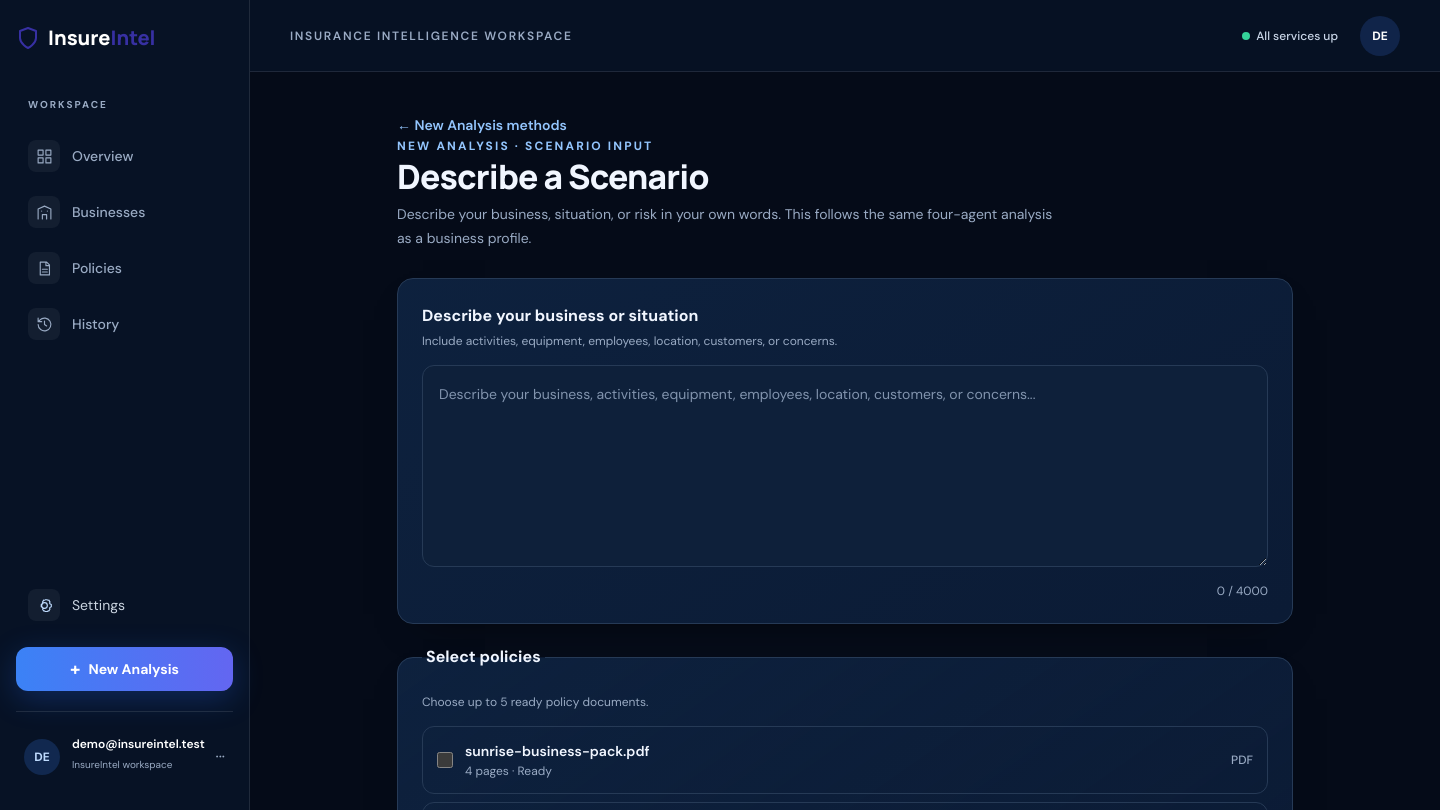
Test: shows a safe error when scenario risk identification fails
This screenshot has width=1440, height=810.
Type "Bakery uses commercial ovens with five staff." into the text box at (845, 466), box x1=422 y1=365 x2=1268 y2=567
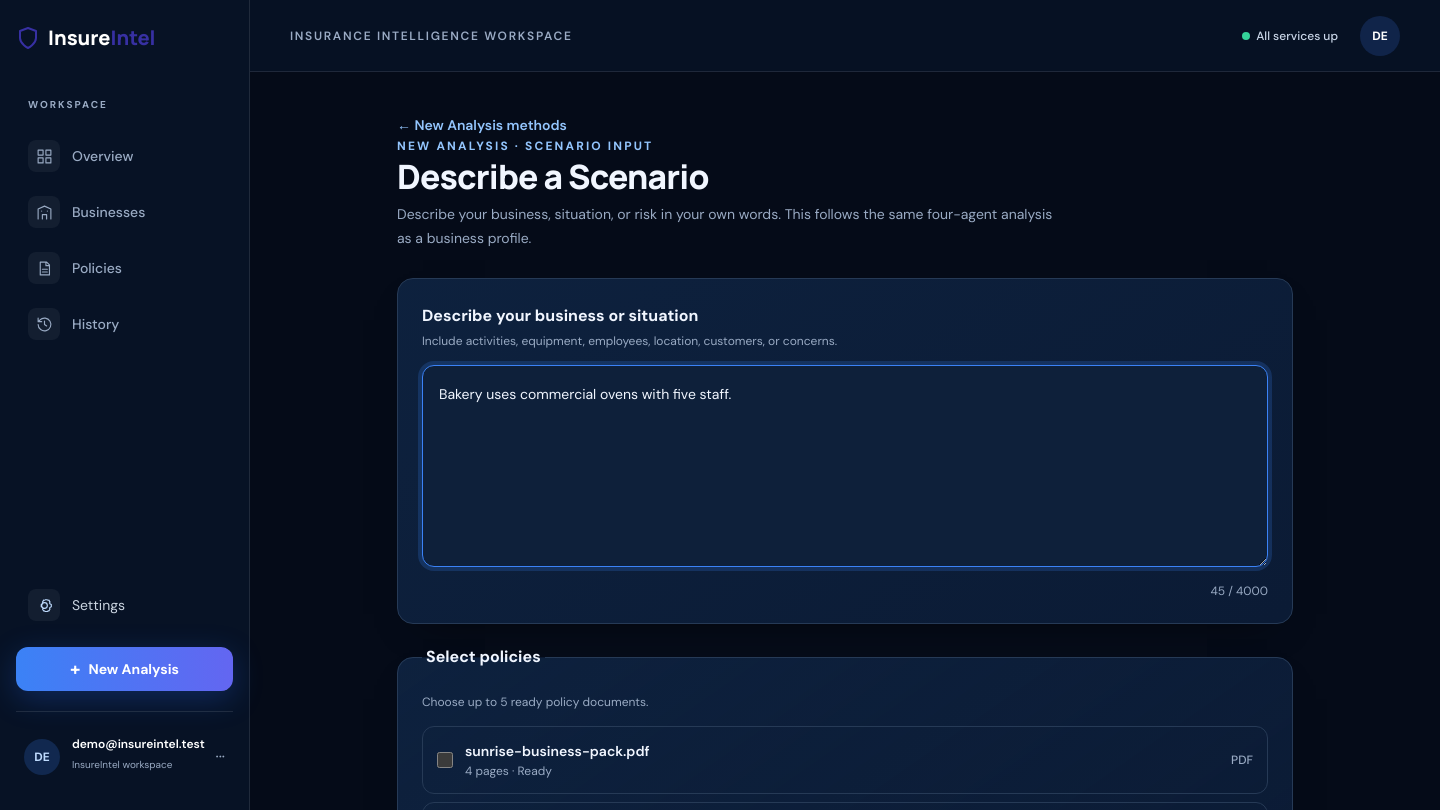
Click the checkbox labelled "sunrise-business-pack.pdf 4 pages · Ready PDF" at (445, 760), box x1=437 y1=752 x2=453 y2=768
(page scrolled)
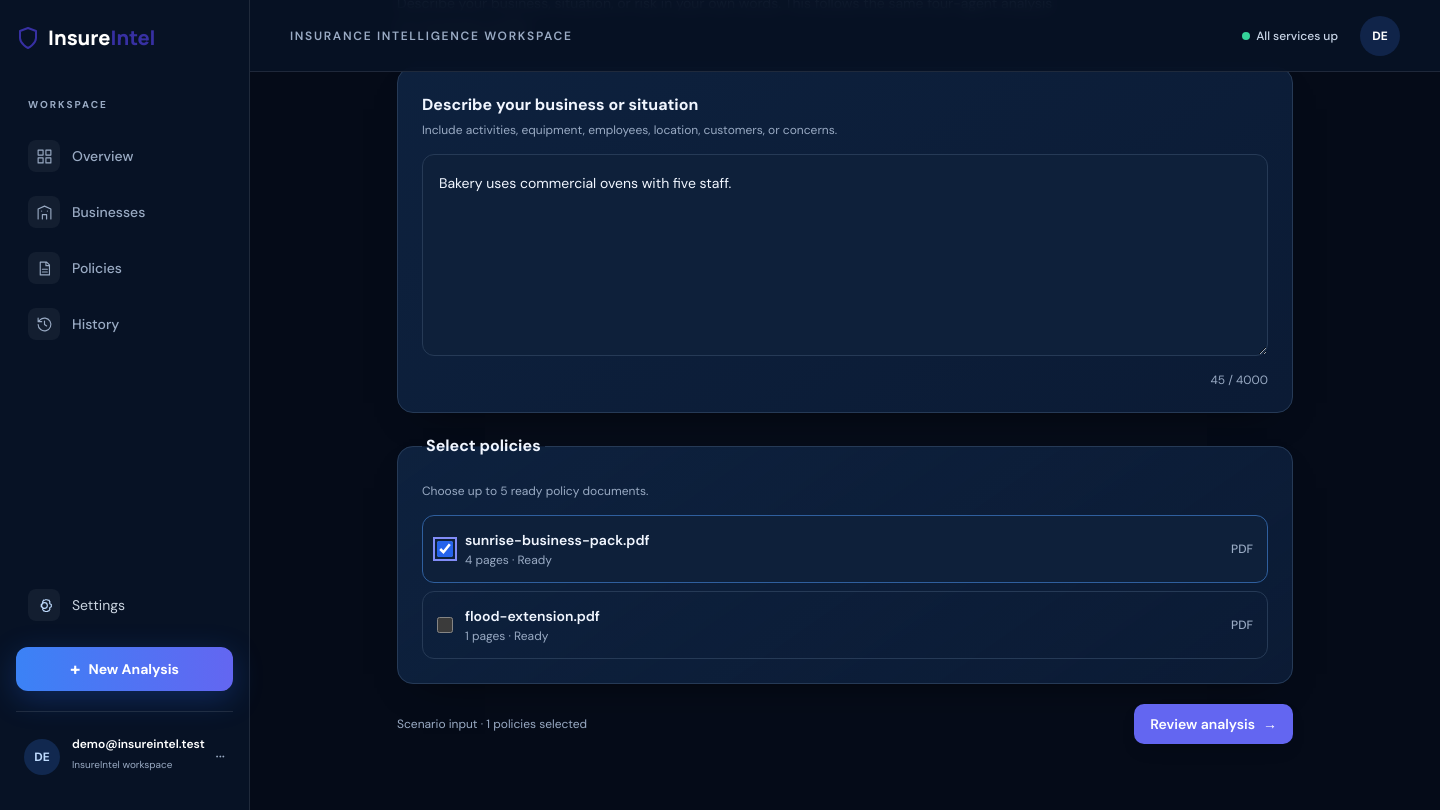
Click the button "Review analysis →" at (1214, 724), box x1=1134 y1=704 x2=1293 y2=744
(page scrolled)
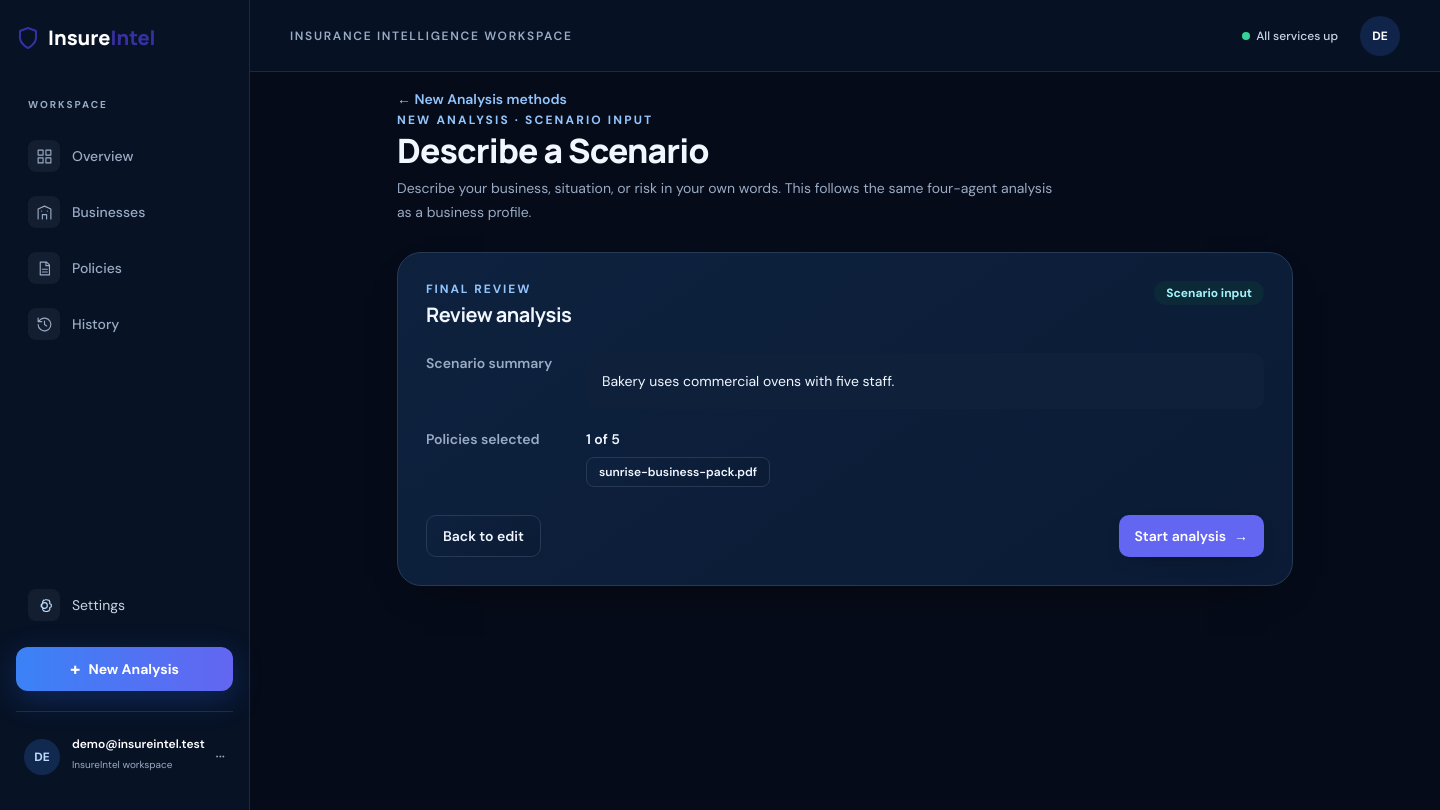
Expected: the heading "Review analysis" is shown, x1=426 y1=301 x2=571 y2=329
Expected: the text "Bakery uses commercial ovens with five staff." is shown, x1=586 y1=353 x2=1264 y2=409
Click the button "Start analysis →" at (1191, 536), box x1=1118 y1=515 x2=1264 y2=557
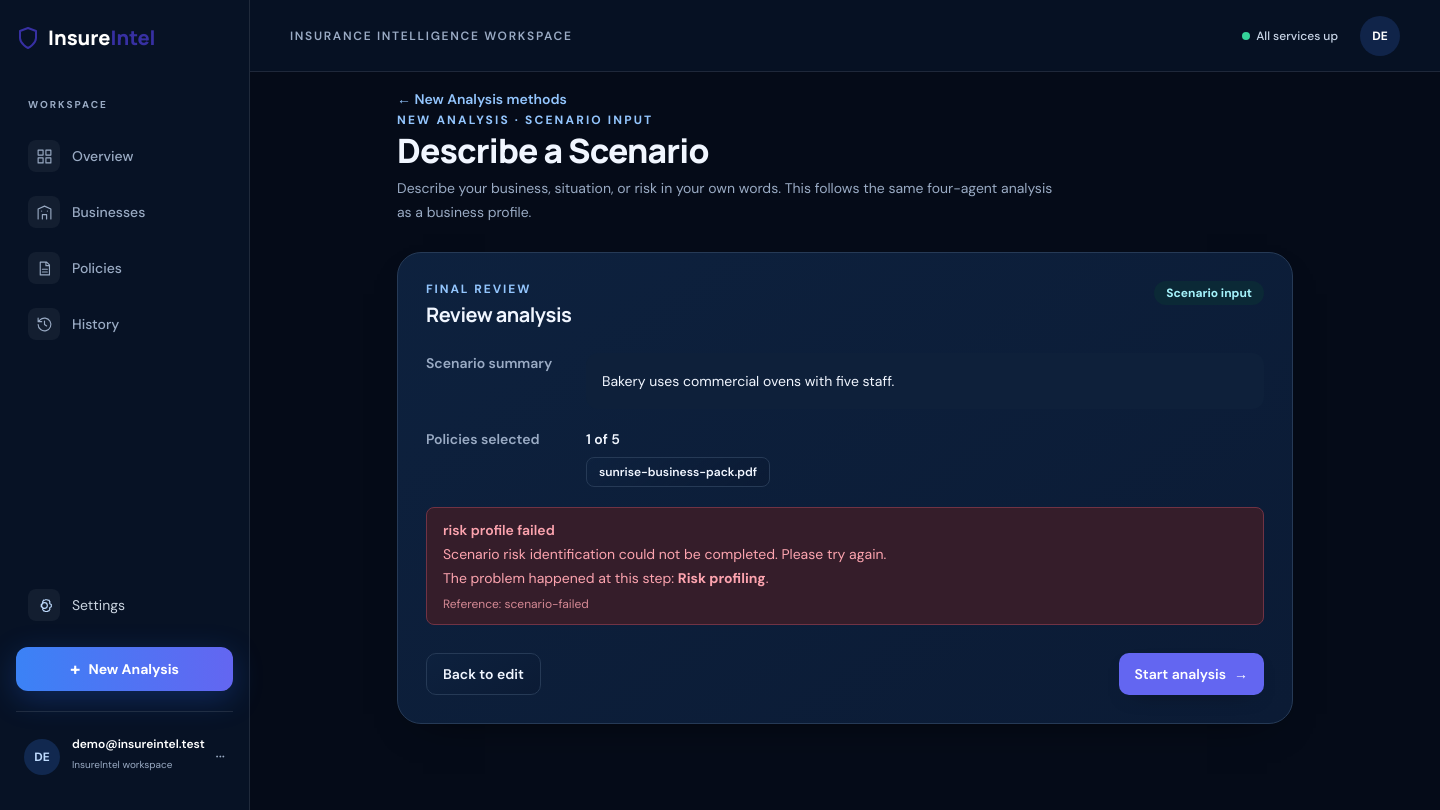
Expected: the button "Back to edit" is shown, x1=426 y1=653 x2=541 y2=695
Expected: the text "Scenario risk identification could not be completed. Please try again." is shown, x1=443 y1=545 x2=886 y2=563
